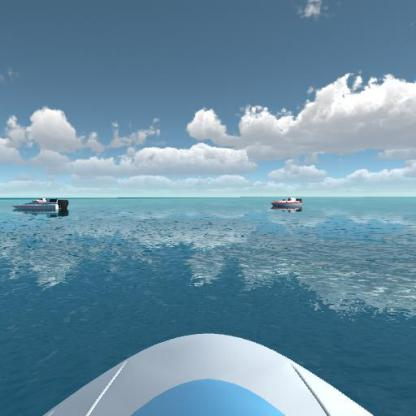usv1: (11, 195, 73, 220)
usv3: (271, 192, 305, 214), (32, 194, 50, 206)
